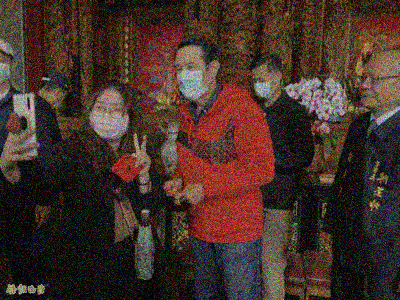with_mask: (87, 98, 130, 142), (172, 60, 211, 100), (250, 73, 278, 100), (49, 92, 66, 110)
without_mask: (359, 68, 394, 109)
